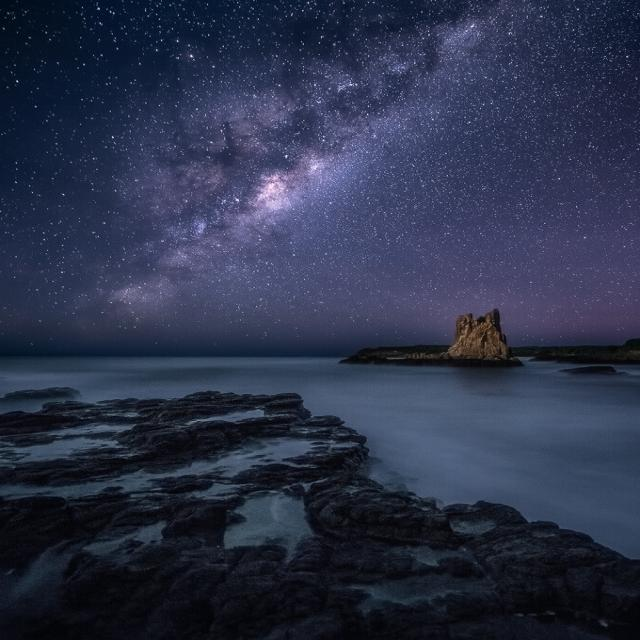reef: (23, 386, 640, 640)
